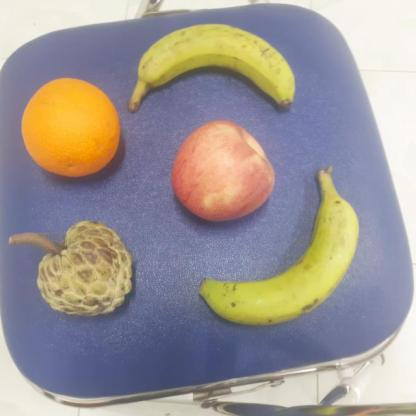annona: (36, 220, 138, 320)
apple: (170, 118, 276, 224)
banana: (196, 170, 360, 327), (128, 24, 302, 110)
orange: (16, 76, 127, 178)
